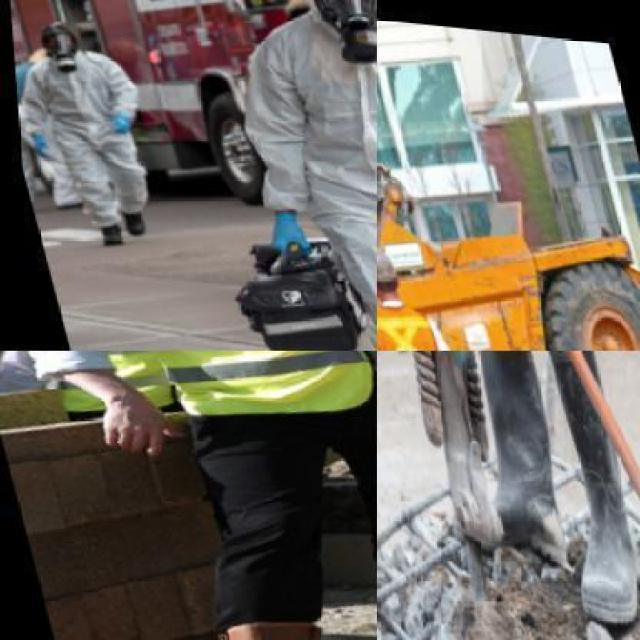Vest: (210, 0, 376, 248), (71, 351, 375, 454), (11, 34, 157, 158), (377, 286, 457, 349)
